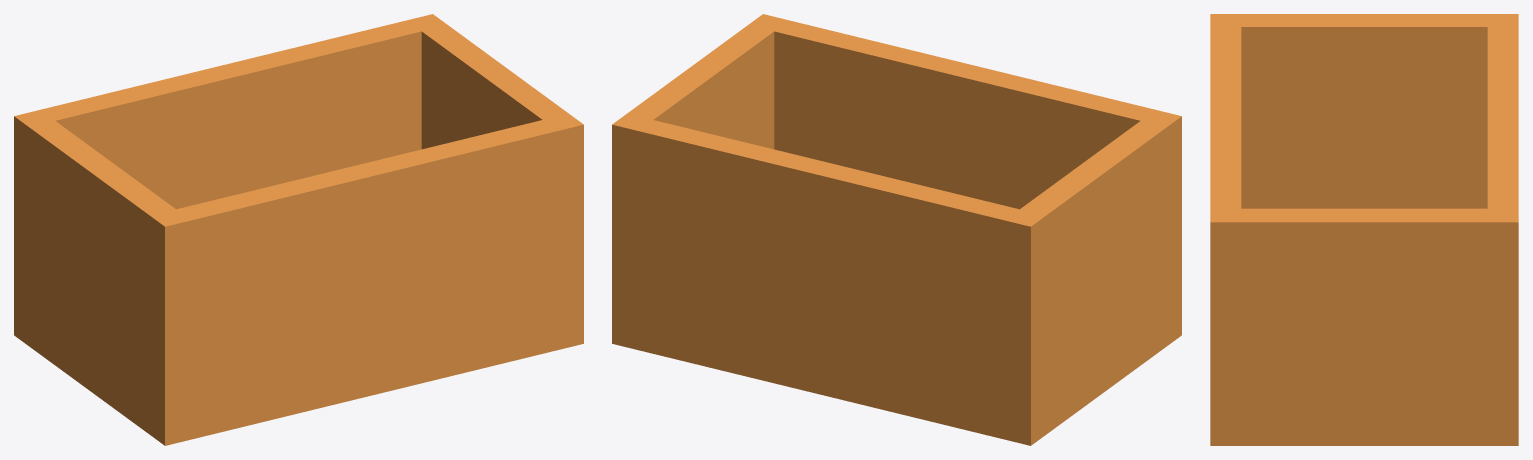
The model's file is factory-waste-skip.glb.
3 views of the same model, side by side, from view 1: azimuth 30°, elevation 25°; view 2: azimuth 150°, elevation 25°; view 3: azimuth 270°, elevation 25° (orthographic).
Parts seen in each view (by area): view 1: orange; view 2: orange; view 3: orange.
Boxes of the visible parts, x1,y1,x2,y2 form: orange: (14,14,583,445); orange: (612,14,1181,445); orange: (1210,14,1518,445).
Bounding box in the file's own units: 1.6 × 0.8001 × 0.9999.
